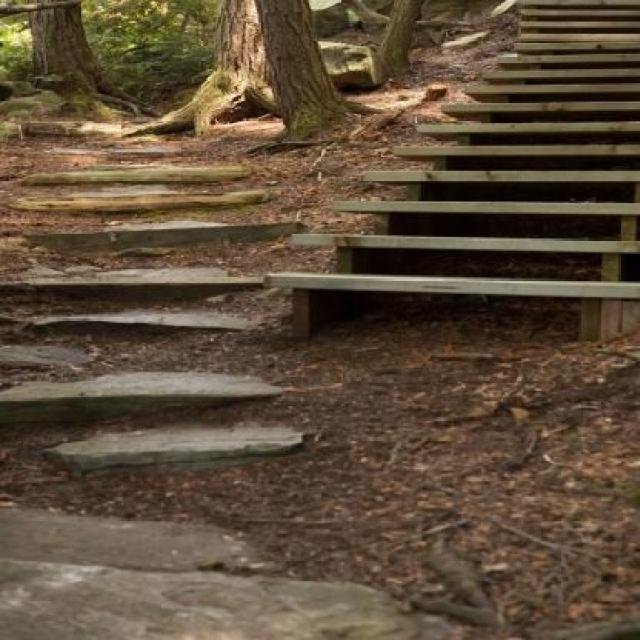stair: (267, 0, 640, 298)
